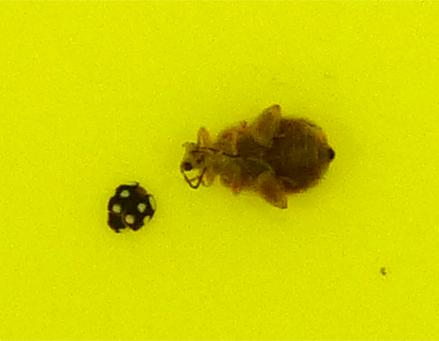Coleoptera: (176, 100, 339, 214), (100, 176, 161, 241)
